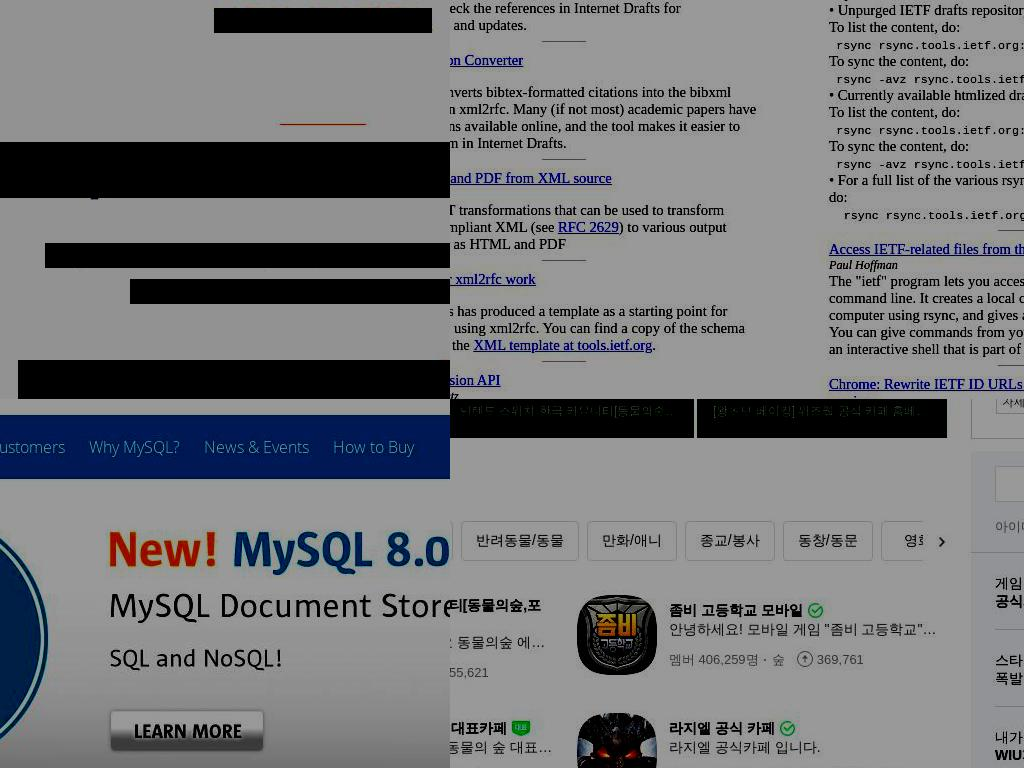button: (577, 595, 947, 675), (577, 713, 947, 768), (450, 595, 561, 683), (450, 713, 561, 768), (214, 8, 432, 32), (461, 521, 579, 561), (586, 521, 677, 561), (684, 521, 775, 561), (782, 521, 873, 561), (880, 521, 955, 561), (962, 521, 1024, 561), (923, 517, 947, 566), (995, 518, 1024, 536)
field: (18, 360, 440, 399)
heading: (0, 142, 450, 198), (450, 470, 947, 502)
image: (577, 595, 657, 675), (214, 8, 432, 33), (577, 713, 657, 768)
link: (669, 621, 939, 639), (828, 375, 1024, 399), (460, 403, 678, 420), (713, 403, 931, 420), (828, 240, 1024, 257), (450, 597, 541, 631), (473, 336, 652, 353), (450, 169, 612, 186), (669, 739, 821, 757), (204, 437, 309, 458), (669, 602, 803, 618), (89, 437, 180, 458), (450, 634, 553, 652), (450, 739, 553, 757), (333, 437, 414, 458), (669, 720, 775, 736), (450, 270, 536, 287), (0, 437, 65, 458), (450, 51, 523, 68), (558, 218, 620, 235), (450, 720, 507, 736), (450, 371, 500, 388), (995, 593, 1024, 609), (995, 747, 1024, 763), (511, 719, 530, 737), (807, 601, 823, 619), (779, 719, 795, 737)
text: (0, 479, 450, 768), (450, 83, 756, 151), (828, 272, 1024, 357), (450, 302, 745, 353), (45, 243, 450, 268), (450, 218, 727, 252), (450, 201, 724, 235), (130, 279, 450, 304), (450, 0, 681, 33), (828, 171, 1024, 205), (828, 1, 1024, 18), (828, 86, 1024, 103), (828, 171, 1024, 188), (836, 38, 1024, 53), (836, 72, 1024, 87), (836, 123, 1024, 138), (836, 157, 1024, 172), (843, 208, 1024, 223), (828, 52, 969, 69), (828, 137, 969, 154), (828, 18, 960, 35), (828, 103, 960, 120), (669, 650, 759, 670), (828, 257, 898, 272), (816, 652, 864, 667), (450, 665, 489, 680), (995, 670, 1024, 686), (995, 729, 1024, 745), (770, 650, 786, 670), (652, 336, 657, 353)
